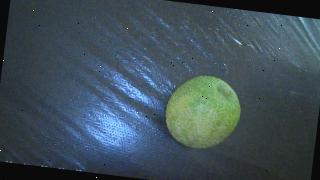DESECHO: (161, 71, 244, 153)
